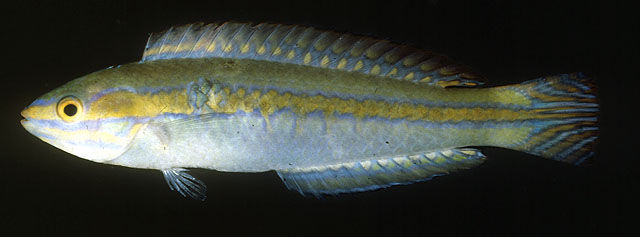fish: (19, 21, 601, 202)
